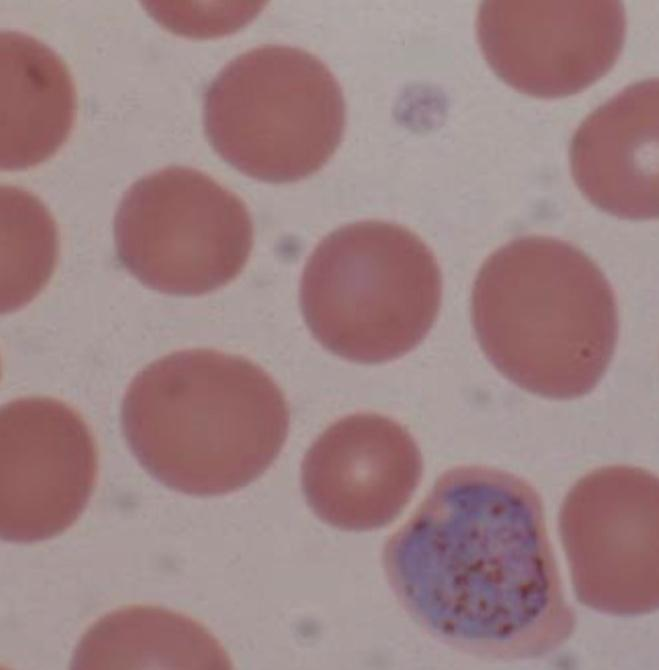Infected: (382, 463, 576, 657)
Uninfected: (122, 348, 288, 496), (471, 235, 620, 399), (300, 220, 444, 366), (202, 41, 344, 185), (111, 163, 248, 294), (476, 0, 629, 100), (558, 465, 659, 613), (301, 411, 425, 531), (0, 395, 98, 540), (566, 78, 659, 221), (0, 28, 74, 170)
